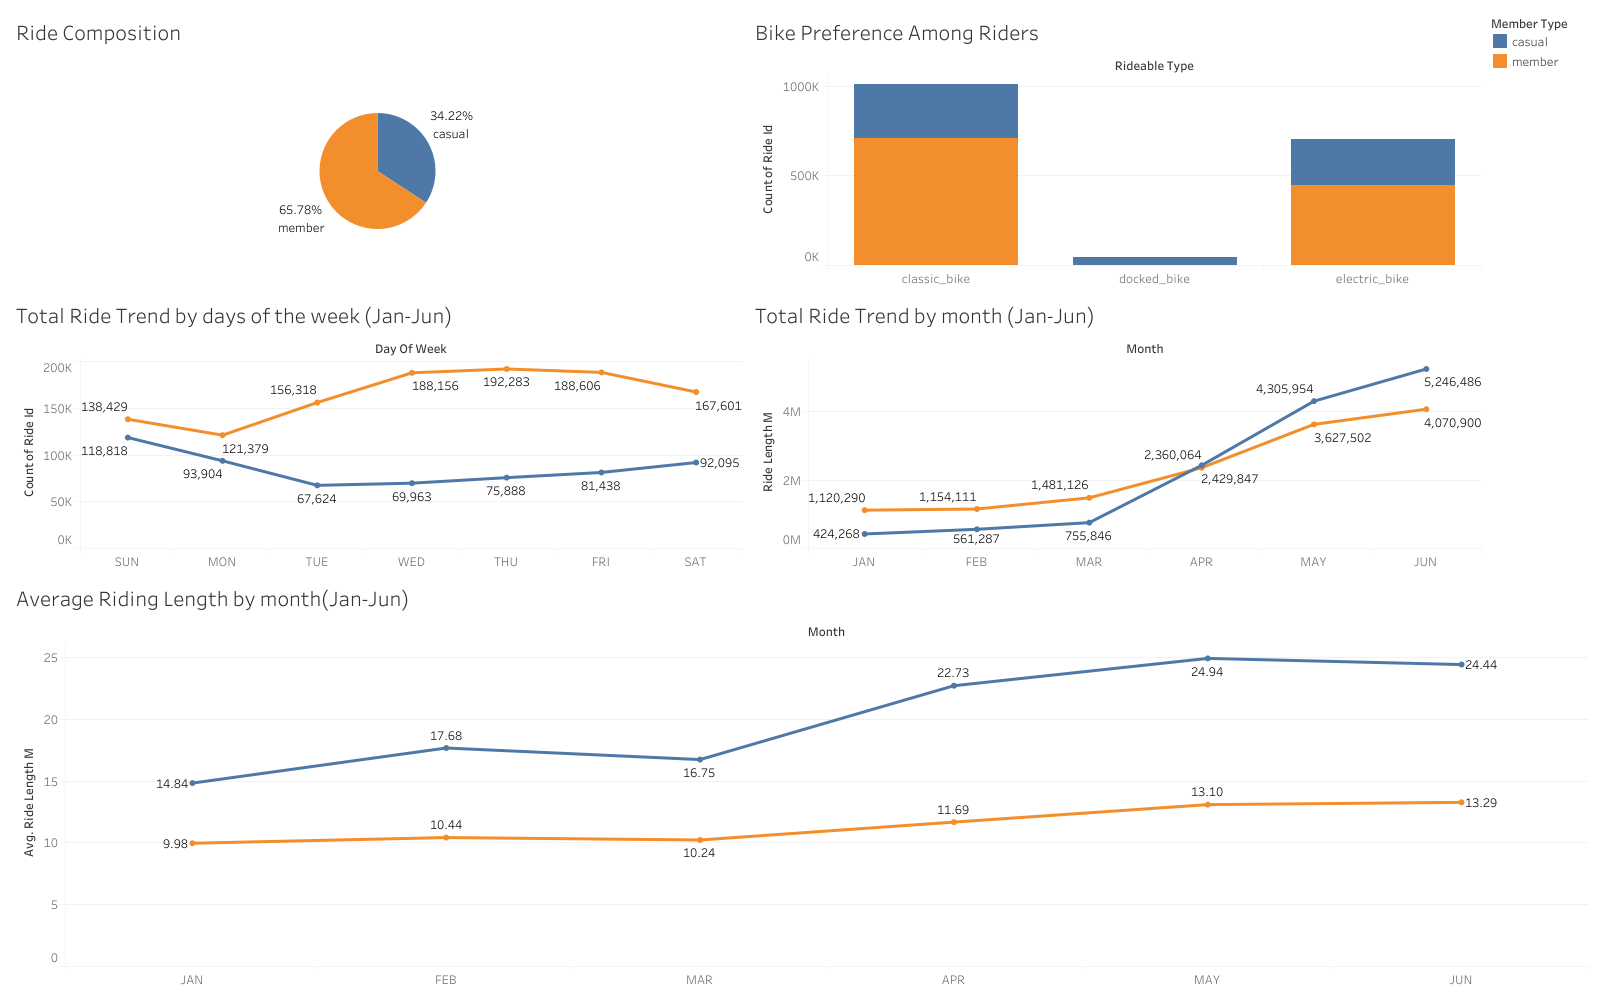

What the dashboard file says about the page in this screenshot:
{"tool":"tableau","page":{"name":"Dashboard 1","canvas":[1600,1000],"ordinal":0},"visuals":[{"type":"worksheet","title":"Sheet 1","mark":"Pie","box":[8,8,739,283]},{"type":"worksheet","title":"Sheet 4","mark":"Bar","rows":["ride_id"],"cols":["rideable_type"],"box":[747,8,739,283]},{"type":"legend","title":"Sheet 1","param":"[federated.07f1z3511c71nu1eg72jx069er8b].[none:member_type:nk]","box":[1486,8,106,67]},{"type":"worksheet","title":"Sheet 3","mark":"Line","rows":["ride_id"],"cols":["day_of_week"],"box":[8,291,739,283]},{"type":"worksheet","title":"Sheet 2","mark":"Line","rows":["ride_length_m"],"cols":["month"],"box":[747,291,739,283]},{"type":"worksheet","title":"Sheet 5","mark":"Line","rows":["ride_length_m"],"cols":["month"],"box":[8,574,1584,418]}]}

Visuals, with their boxes in screenshot pixels (x1, y1, x2, y2), scaled from the page's 1600x1000 canvas onto the 1600x1000 screenshot:
"Sheet 1" worksheet (Pie marks): rect(8, 8, 747, 291)
"Sheet 4" worksheet (Bar marks): rect(747, 8, 1486, 291)
"Sheet 1" legend: rect(1486, 8, 1592, 75)
"Sheet 3" worksheet (Line marks): rect(8, 291, 747, 574)
"Sheet 2" worksheet (Line marks): rect(747, 291, 1486, 574)
"Sheet 5" worksheet (Line marks): rect(8, 574, 1592, 992)
